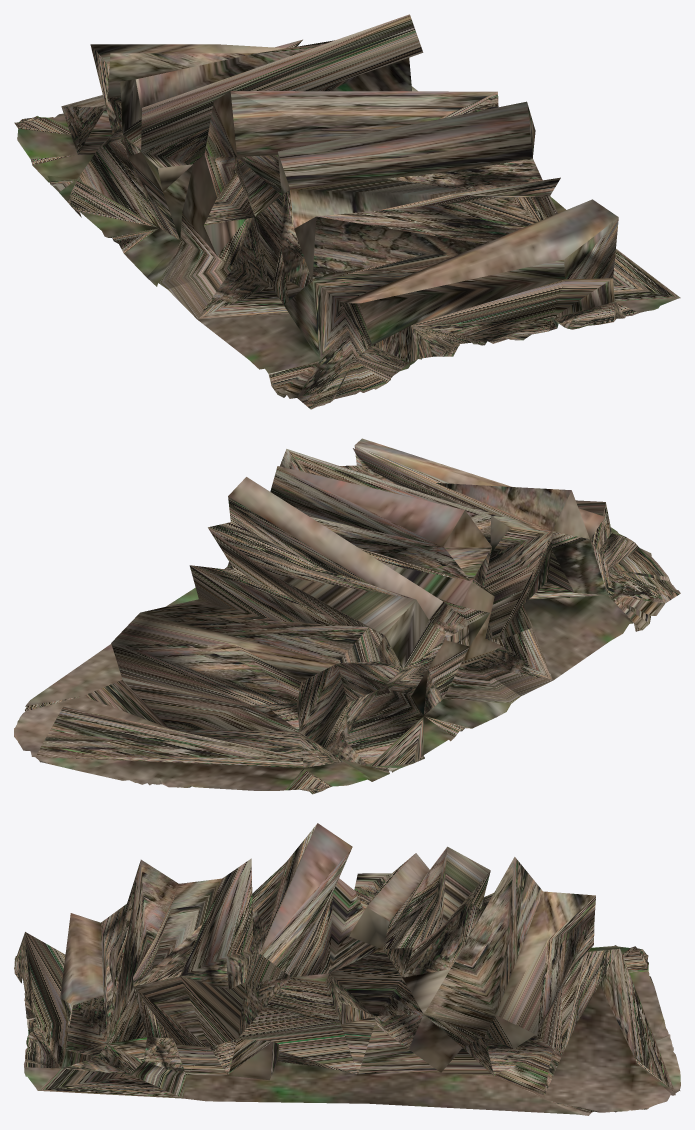
Rendered from log-stack.lod1.glb.
3 views of the same model, one above another, from view 1: azimuth 30°, elevation 25°; view 2: azimuth 150°, elevation 25°; view 3: azimuth 270°, elevation 25° (orthographic). The views are drawn at different scales.
Parts seen in each view (by area): view 1: troncos_troncos_0; view 2: troncos_troncos_0; view 3: troncos_troncos_0.
Part boxes in pixels (box(x1,y1,x2,y2)): troncos_troncos_0: box(14, 14, 680, 409); troncos_troncos_0: box(14, 438, 680, 794); troncos_troncos_0: box(14, 823, 680, 1115).
Bounding box in the file's own units: 4.83 × 2.39 × 7.99.
Materials: 1 (1 with a texture image).
